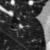node: (1, 5, 15, 18), (17, 23, 25, 29), (9, 1, 16, 7), (27, 1, 33, 7)
